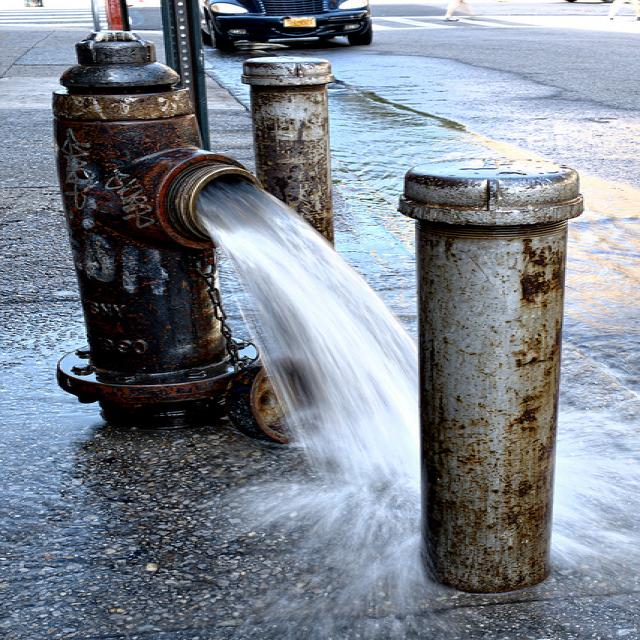Vehicle: (201, 0, 373, 50)
